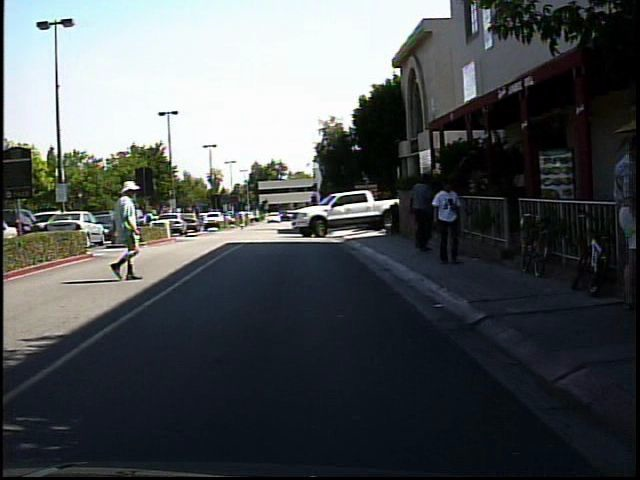person: (608, 129, 639, 313), (103, 178, 155, 285), (430, 174, 470, 272), (405, 171, 435, 253), (141, 207, 158, 242), (235, 206, 250, 231)
